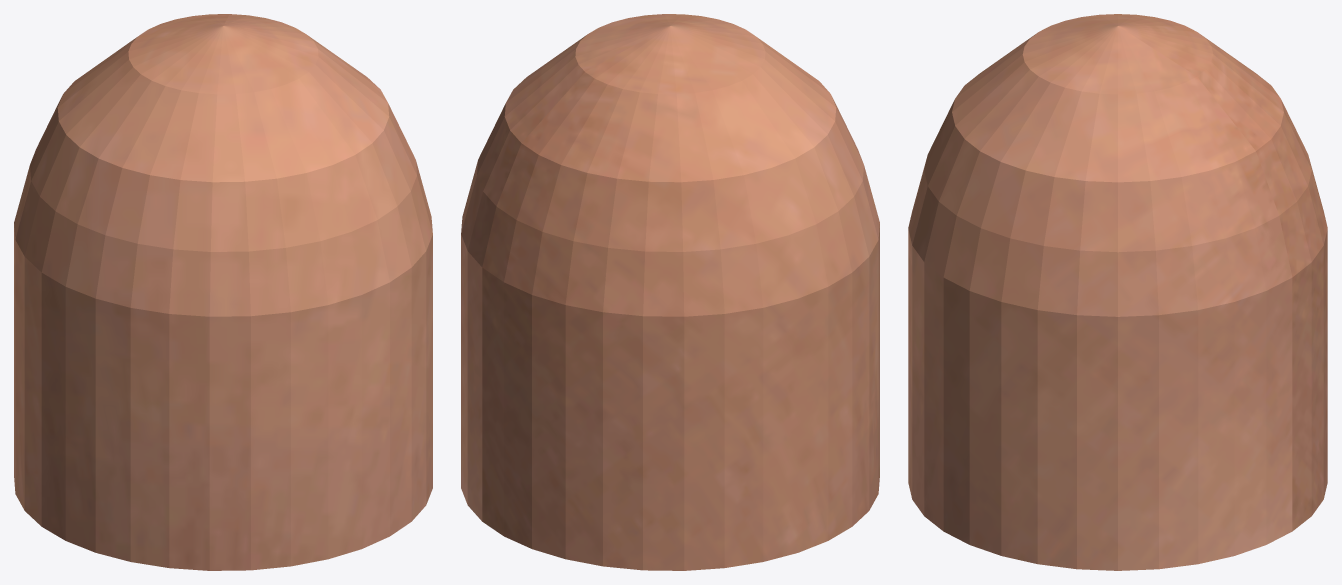
Rendered from bullet.obj.
3 views of the same model, side by side, from view 1: azimuth 30°, elevation 25°; view 2: azimuth 150°, elevation 25°; view 3: azimuth 270°, elevation 25° (orthographic).
Visible parts, largest first — view 1: Cylinder; view 2: Cylinder; view 3: Cylinder.
Boxes of the visible parts, left/top/right/bottom form: Cylinder: left=14, top=14, right=432, bottom=570; Cylinder: left=461, top=14, right=879, bottom=570; Cylinder: left=908, top=14, right=1327, bottom=570.
Bounding box in the file's own units: 1 × 1.2 × 1.
